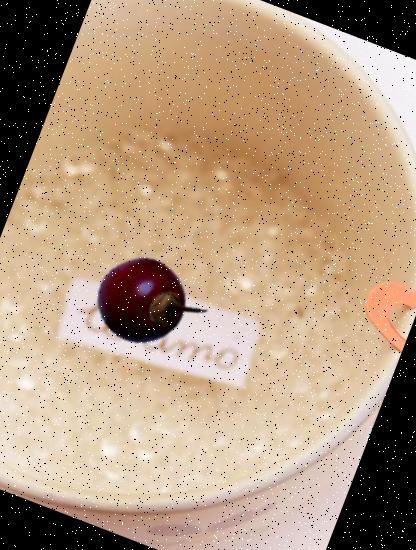Tamarillo: (82, 241, 206, 365)
